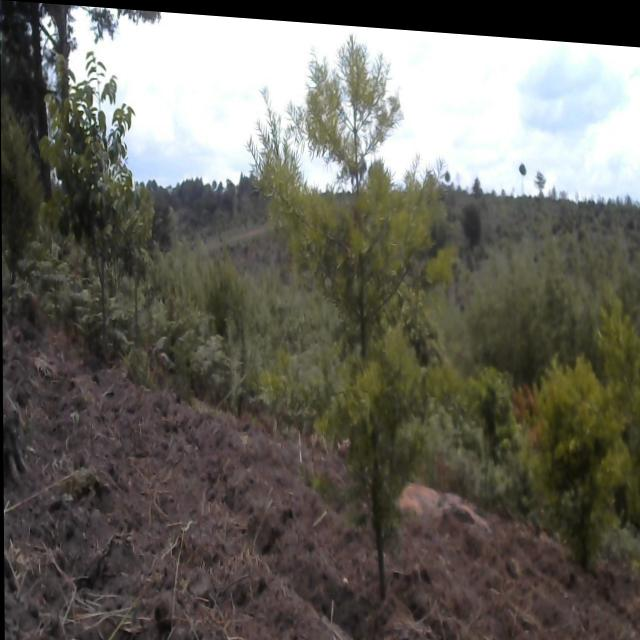Lemon Myrtle: (531, 351, 622, 582), (595, 281, 640, 450)
Podocarpus falcatus: (244, 23, 461, 630)
cedrus: (1, 87, 41, 286)
other: (42, 36, 133, 337)
